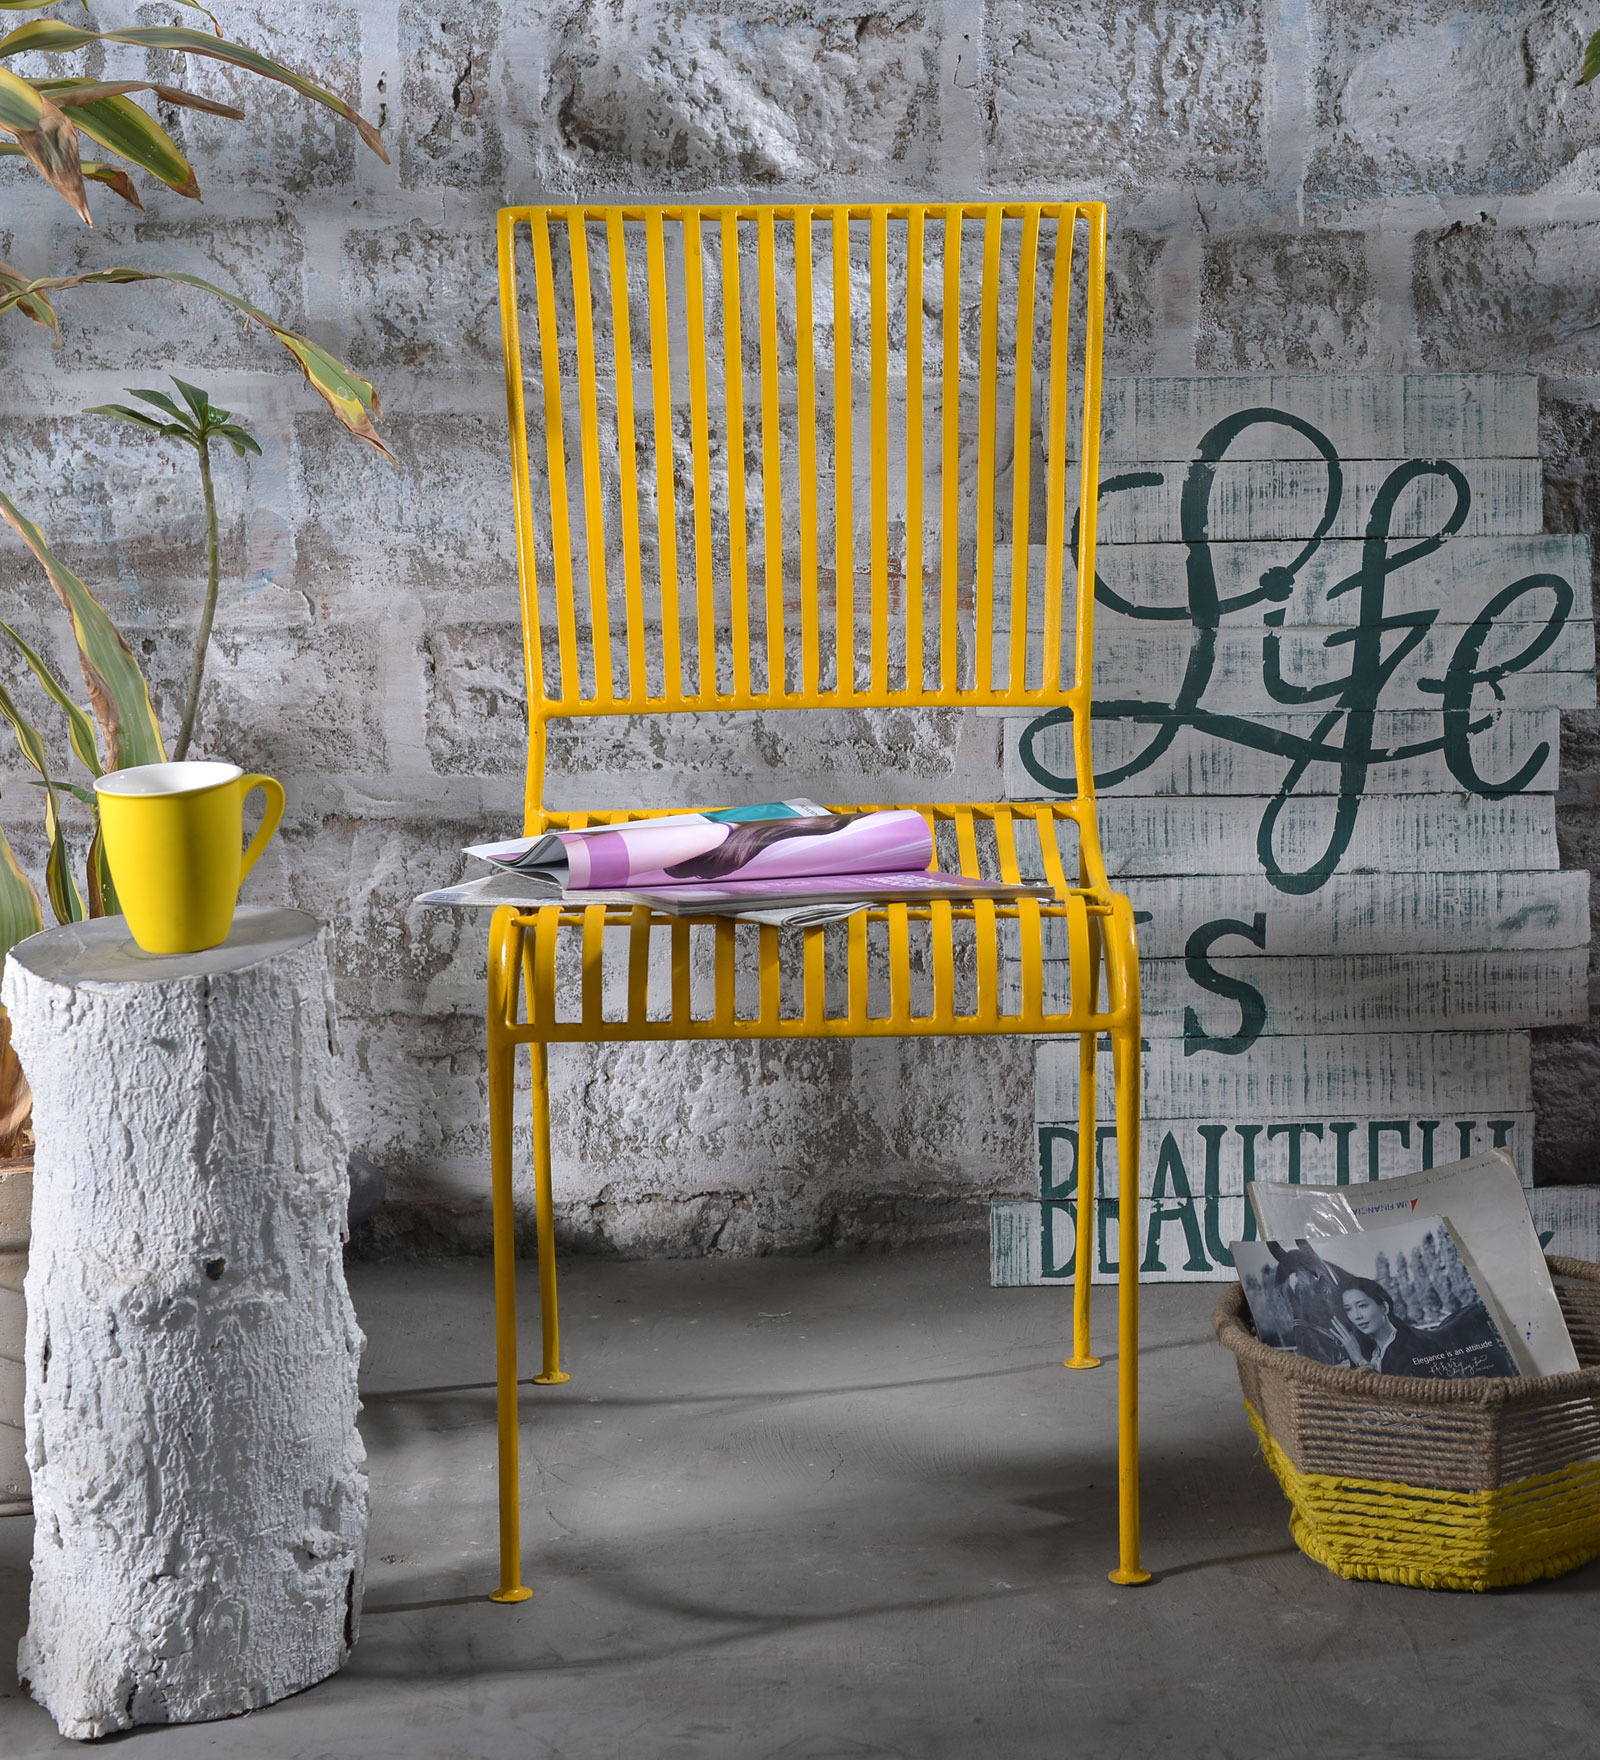Lisheen Outdoor Iron Chair in Yellow Color by Bohemiana: (431, 155, 1192, 1639)
